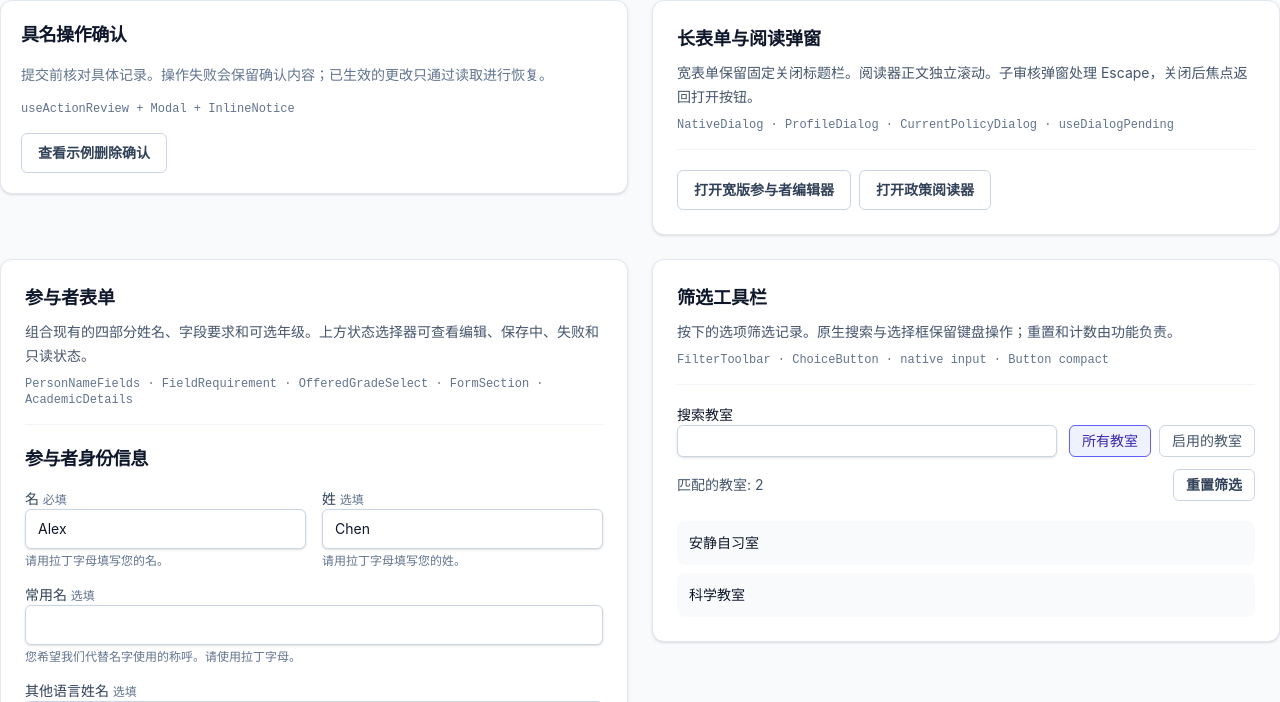
Test: shows named review and read-only recovery in the zh gallery
This screenshot has width=1280, height=702.
Click the button "查看示例删除确认" at (94, 153), box [21,133,167,173]
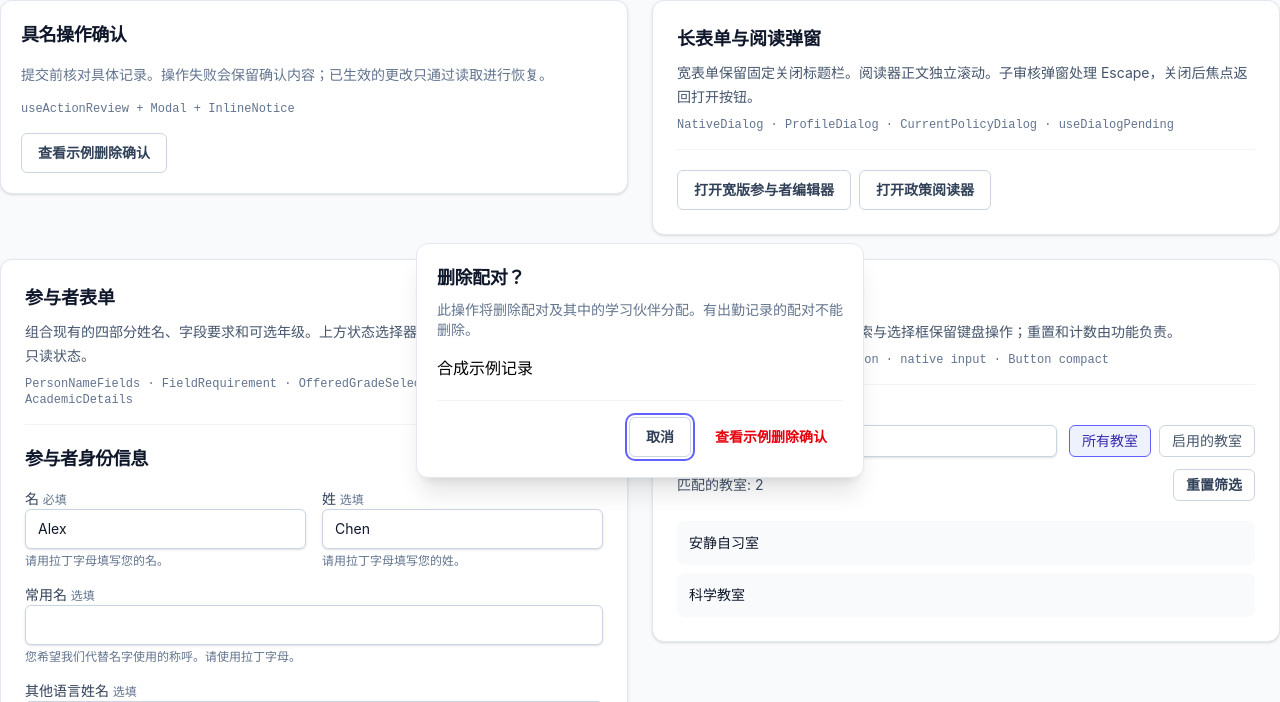
Expected: the dialog shows "合成示例记录", [437,358,533,378]
Click the button "查看示例删除确认" below "合成示例记录" at (771, 436), box [699,416,843,456]
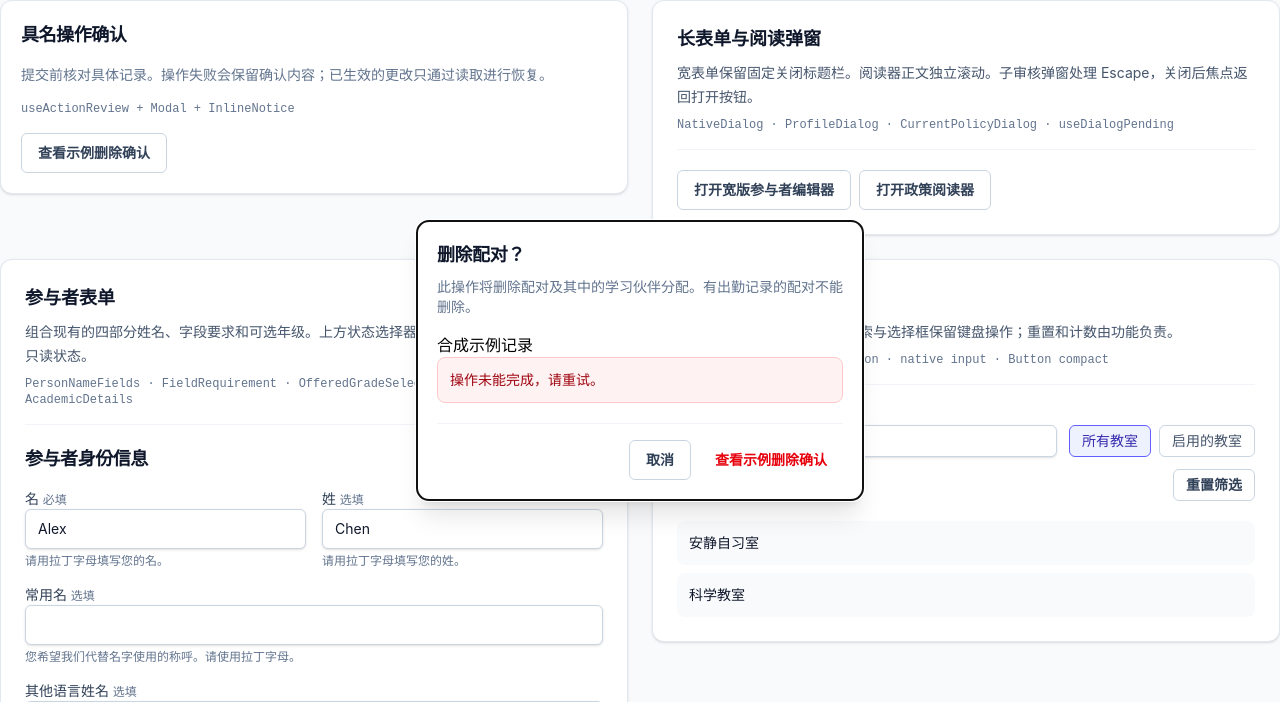
Expected: the message reads "操作未能完成，请重试。", [450,370,604,388]
Click the button "查看示例删除确认" below "操作未能完成，请重试。" at (771, 460), box [699,440,843,480]
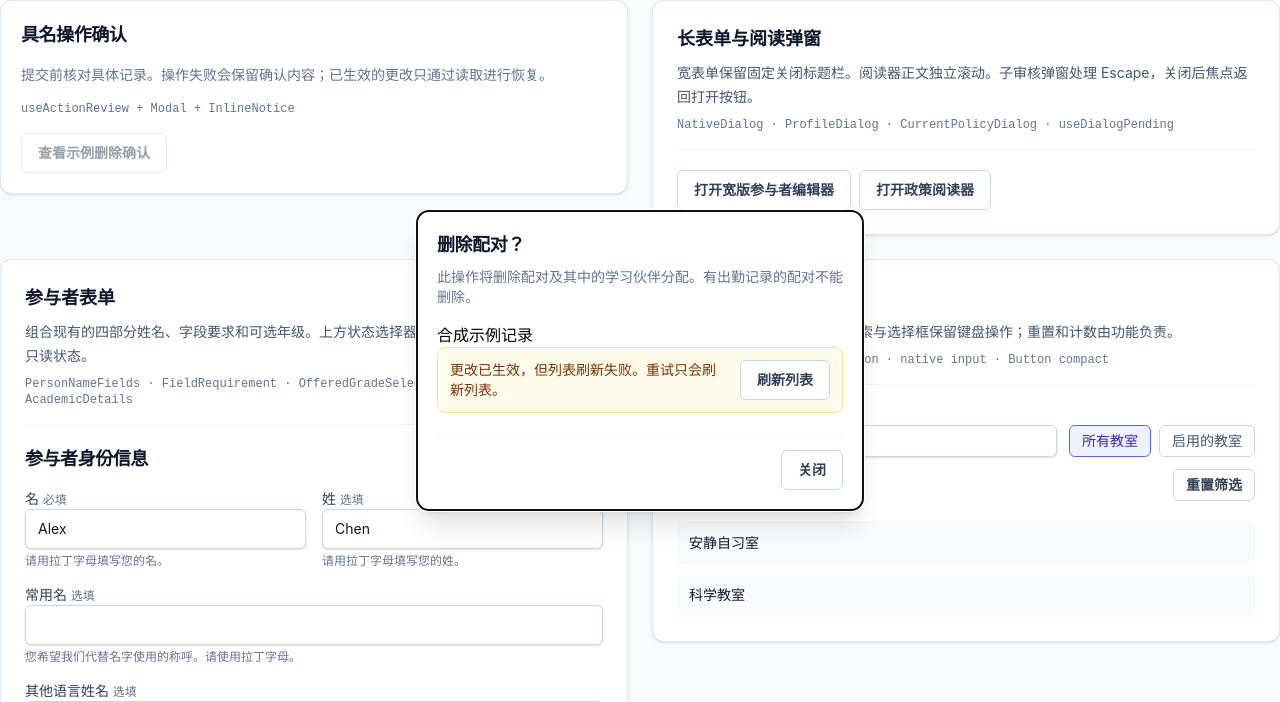
Expected: the dialog shows "更改已生效，但列表刷新失败。重试只会刷新列表。", [450,360,716,398]
Click the button "刷新列表" at (785, 380), box [740,360,830,400]
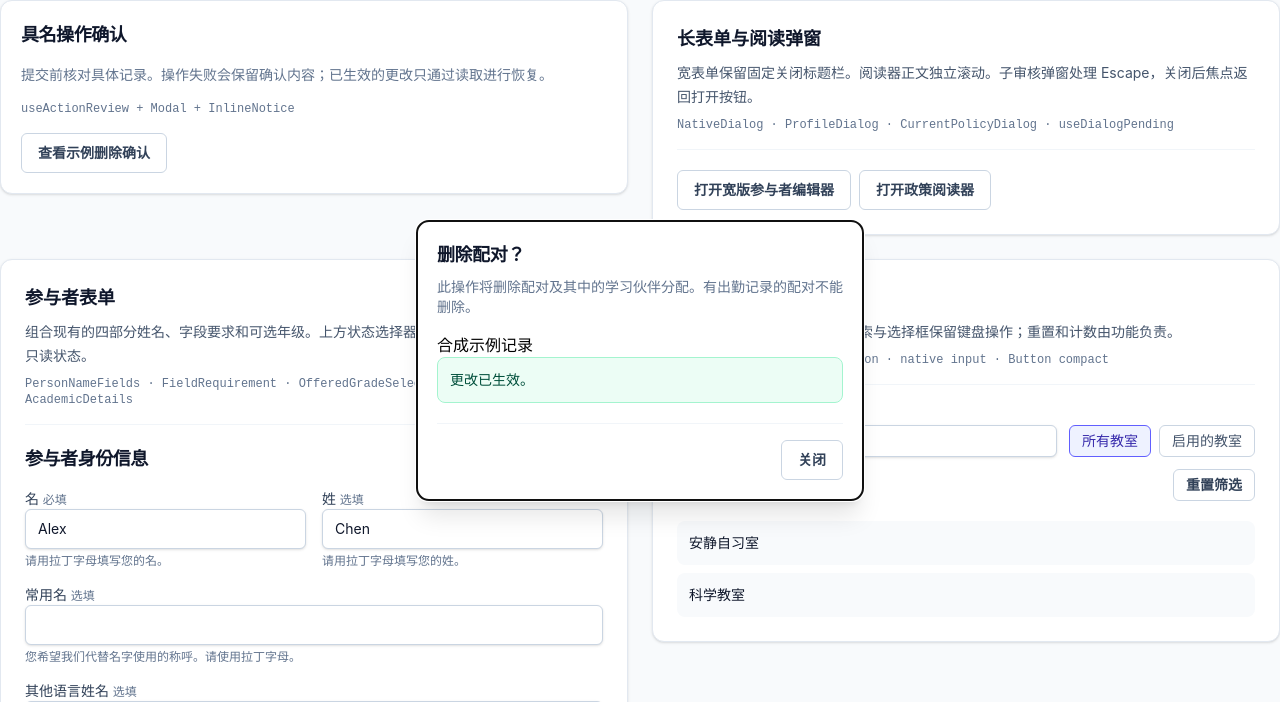
Expected: the dialog shows "更改已生效。", [450,370,534,388]
